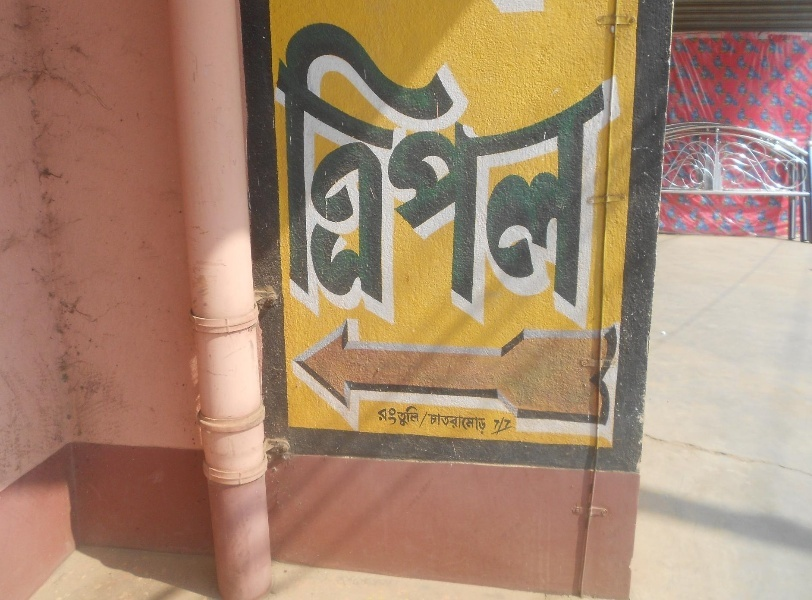text: (273, 22, 288, 330), (289, 22, 304, 330), (305, 22, 320, 330), (321, 22, 336, 330), (337, 22, 352, 330), (353, 22, 368, 330), (369, 22, 384, 330), (385, 22, 400, 330), (401, 22, 416, 330), (417, 22, 432, 330), (433, 22, 448, 330), (449, 22, 464, 330), (465, 22, 480, 330), (481, 22, 496, 330), (497, 22, 512, 330), (513, 22, 528, 330), (529, 22, 544, 330), (545, 22, 560, 330), (561, 22, 576, 330), (577, 22, 592, 330), (593, 22, 608, 330), (609, 22, 619, 330), (433, 410, 448, 436), (449, 410, 464, 436), (465, 410, 480, 436), (497, 417, 513, 436), (385, 406, 400, 426), (401, 406, 416, 426), (481, 1, 496, 21), (497, 1, 512, 21), (513, 1, 528, 21), (529, 1, 544, 21), (545, 1, 560, 21), (561, 1, 576, 21), (422, 410, 432, 436), (481, 410, 487, 436), (378, 406, 384, 426), (417, 406, 420, 426), (477, 1, 480, 21), (577, 1, 578, 21), (495, 417, 496, 436)
